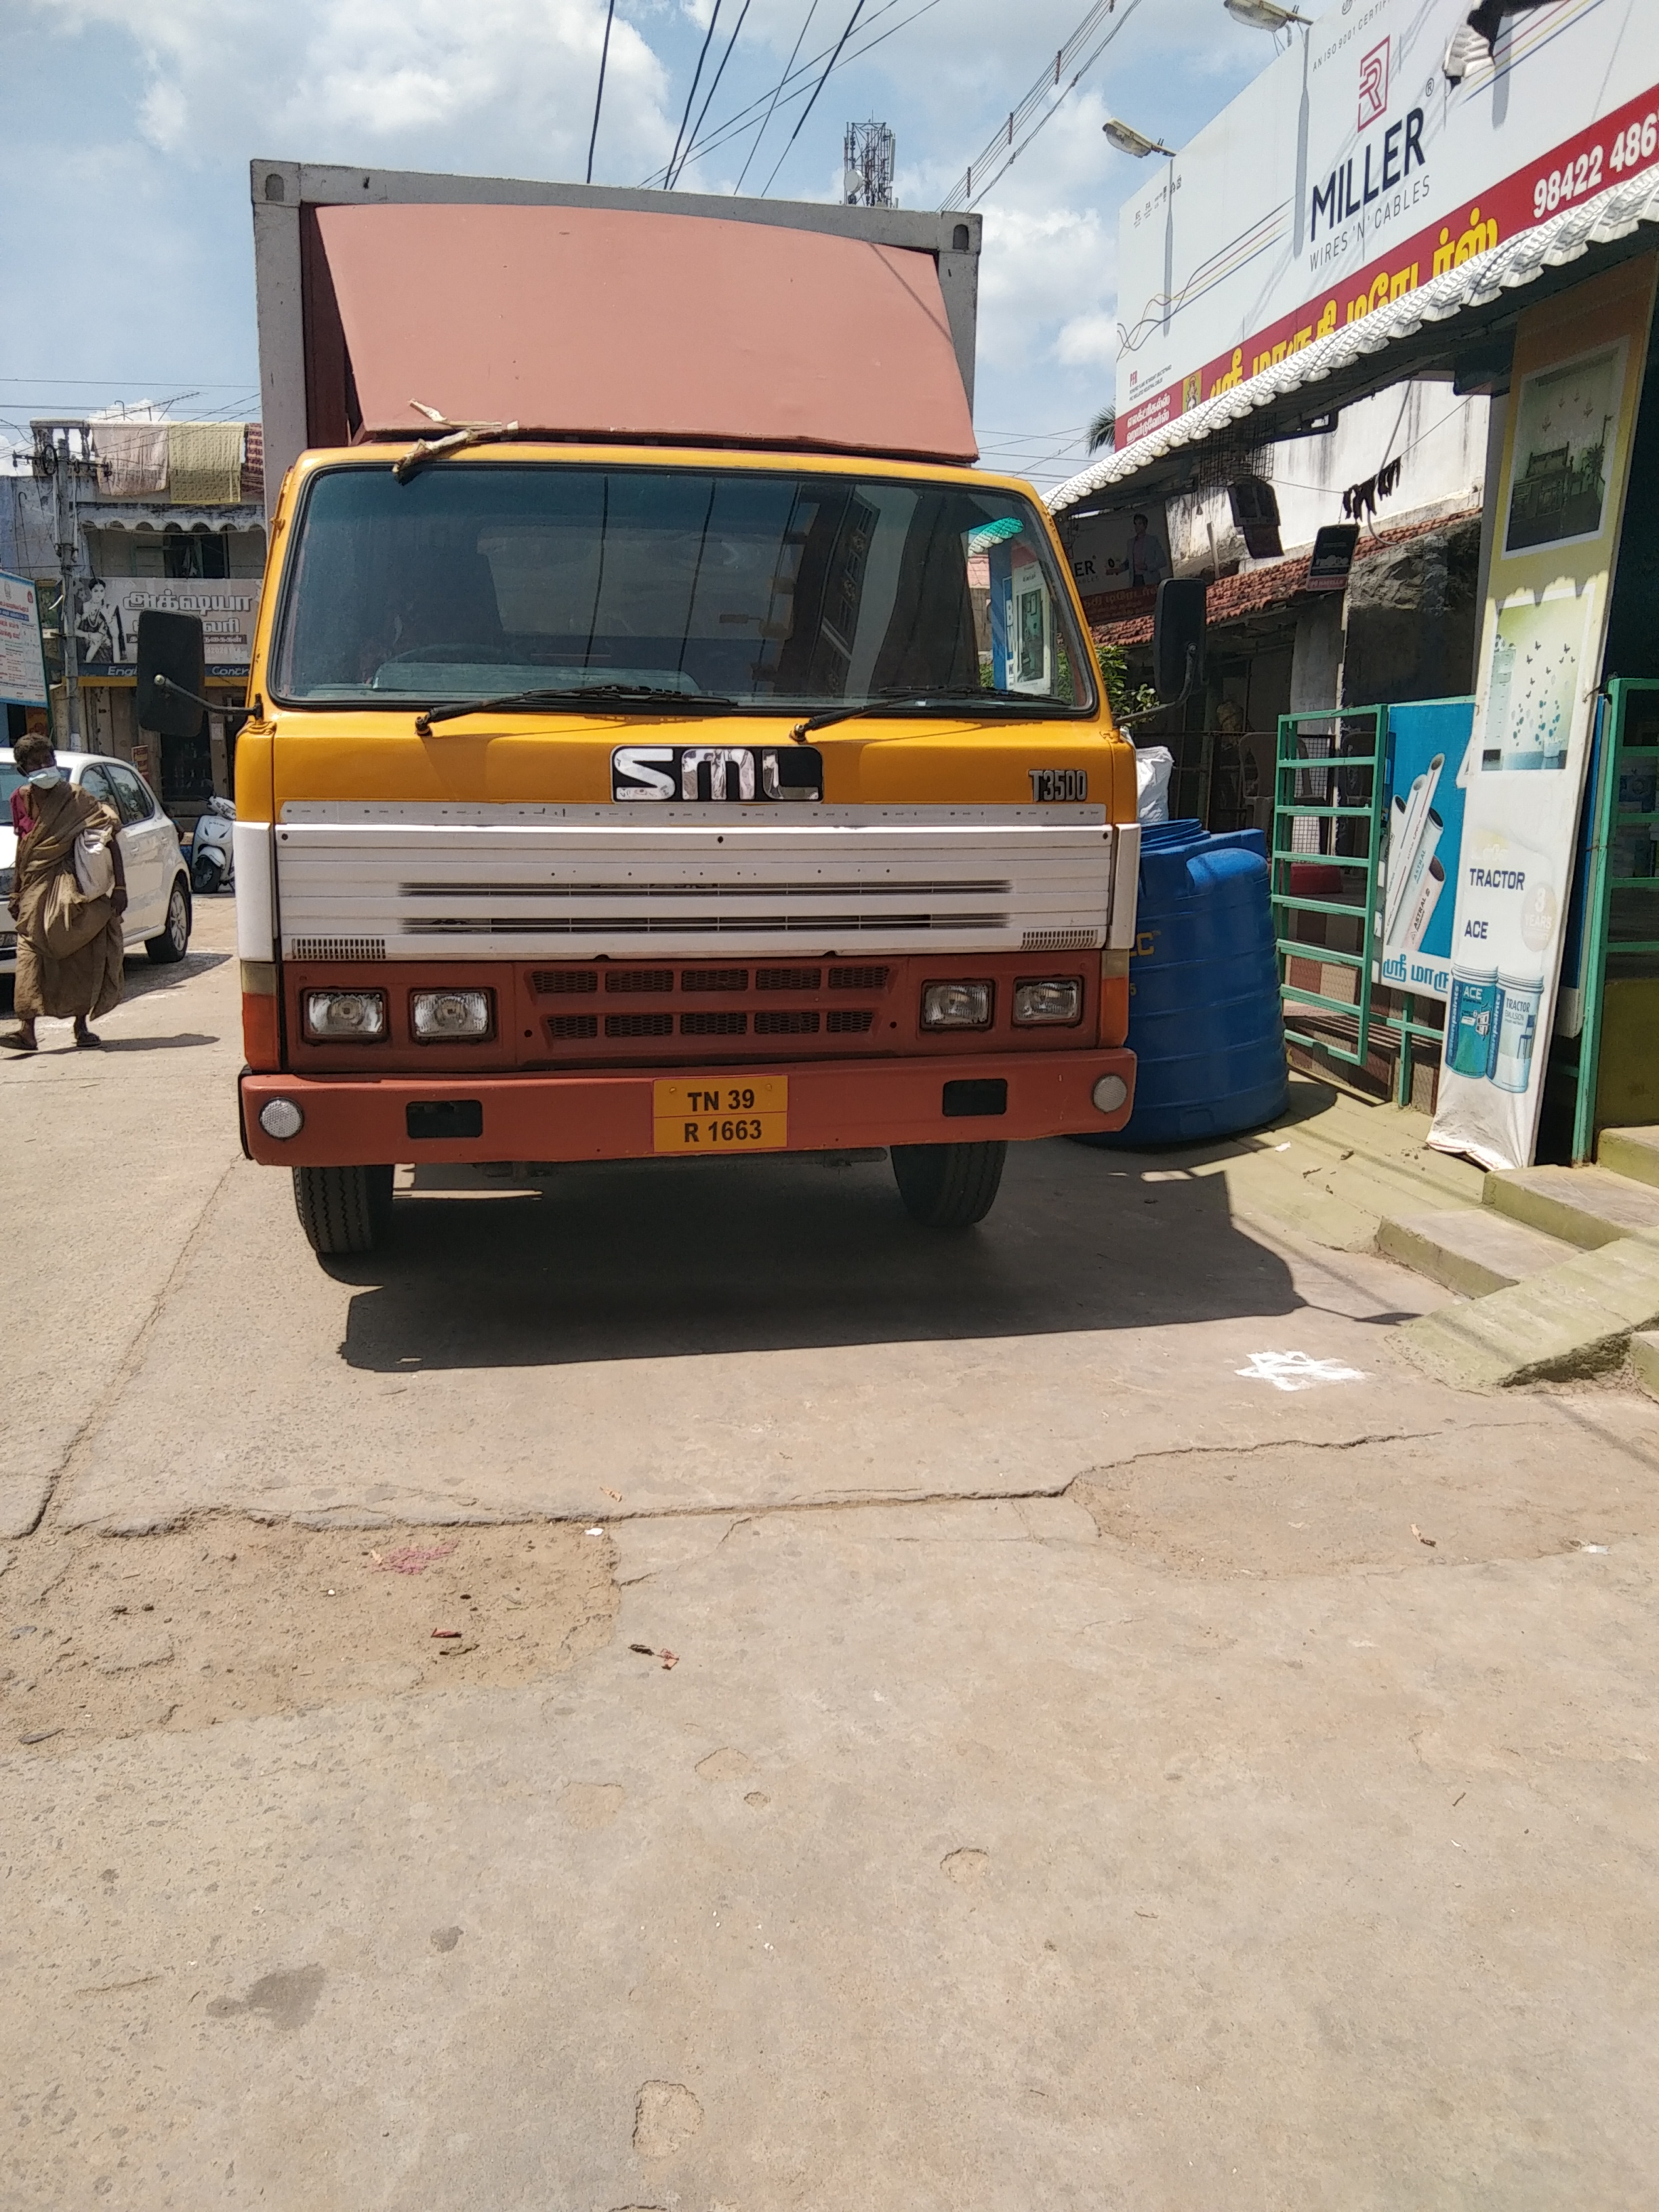truck: (131, 153, 1213, 1261)
